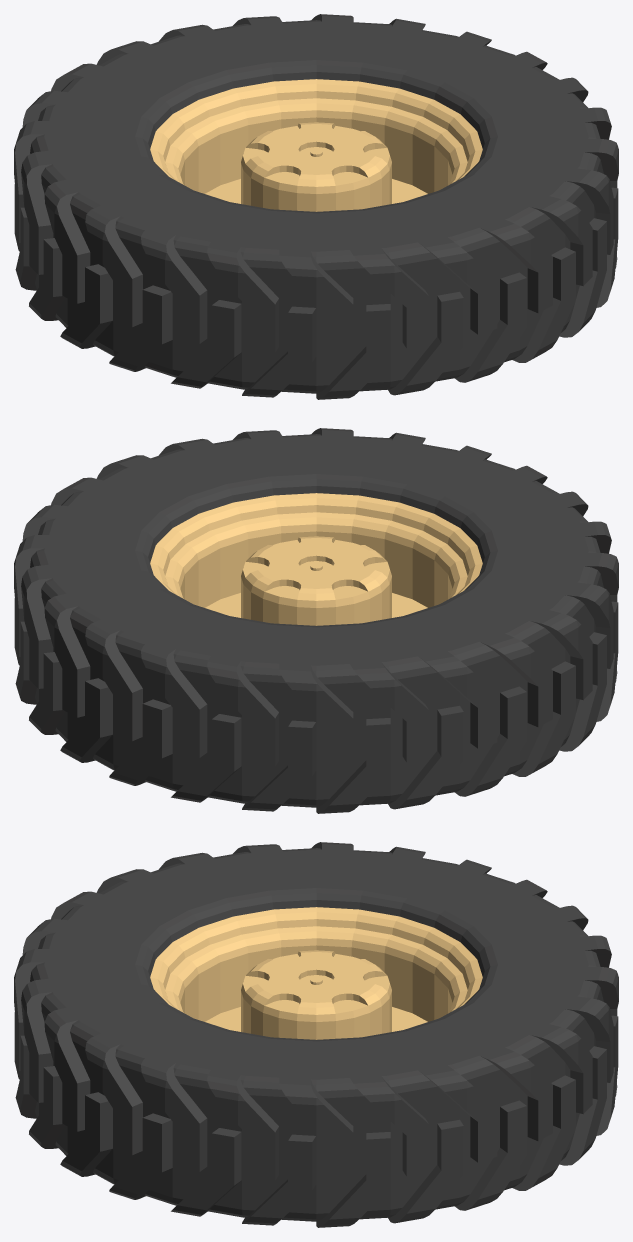
File: mazebot_leftWheel_visible__164__.dae
3 renders of one model, top to bottom at view 1: azimuth 30°, elevation 25°; view 2: azimuth 150°, elevation 25°; view 3: azimuth 270°, elevation 25°, orthographic.
Parts seen in each view (by area): view 1: Node_0x7f4a58bb5e60 (×2); view 2: Node_0x7f4a58bb5e60 (×2); view 3: Node_0x7f4a58bb5e60 (×2).
Boxes of the visible parts, bbox=[...] form: Node_0x7f4a58bb5e60 (×2): bbox=[14, 14, 618, 399]; Node_0x7f4a58bb5e60 (×2): bbox=[14, 428, 618, 813]; Node_0x7f4a58bb5e60 (×2): bbox=[14, 842, 618, 1227].
Size of the model in its own units: 0.0975 by 0.025 by 0.0975.
